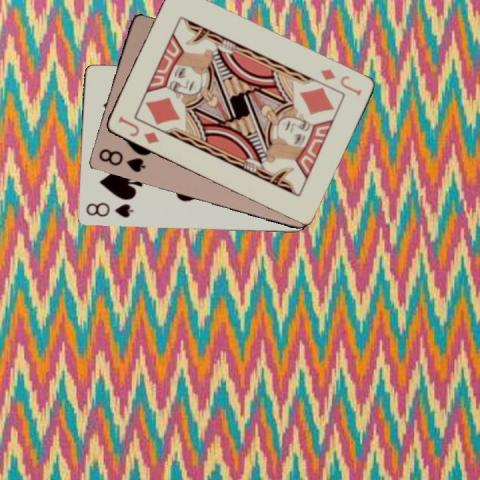8s: (95, 145, 147, 174), (82, 200, 134, 219)
Jd: (115, 113, 160, 146), (316, 66, 362, 98)
